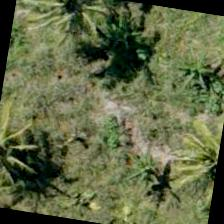Kelapa_Sawit: (164, 109, 223, 206), (18, 0, 117, 55), (0, 105, 47, 202)
